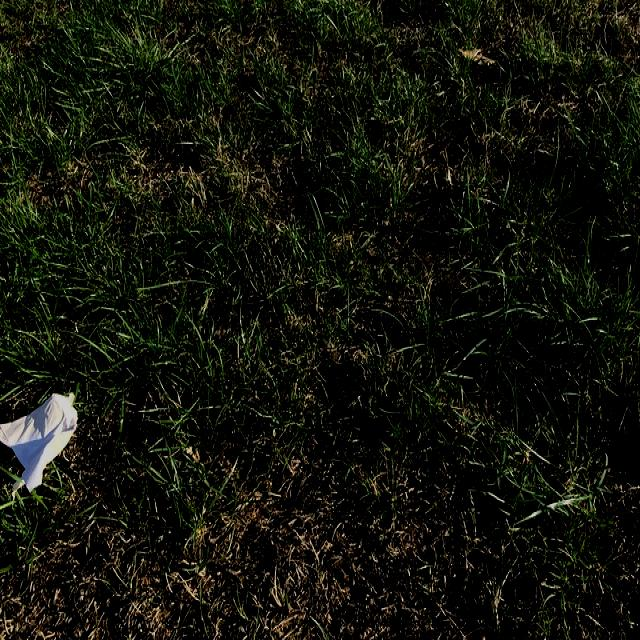Recycle: (0, 389, 81, 492)
